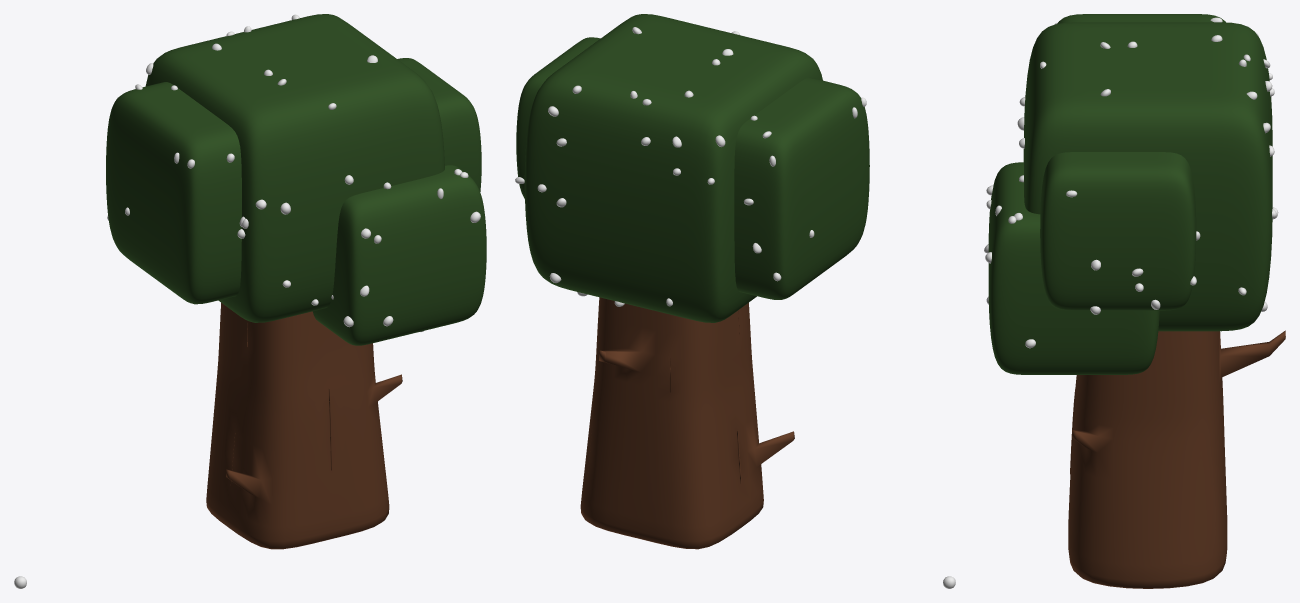
The model's file is Tree.fbx.
3 renders of one model, left to right at view 1: azimuth 30°, elevation 25°; view 2: azimuth 150°, elevation 25°; view 3: azimuth 270°, elevation 25°, orthographic. The views are drawn at different scales.
Parts seen in each view (by area): view 1: Cube; view 2: Cube; view 3: Cube.
Part boxes in pixels (x1,y1,x2,y2): Cube: (106,14,486,549); Cube: (515,14,869,549); Cube: (984,14,1285,588).
Bounding box in the file's own units: 629 × 657 × 361.
